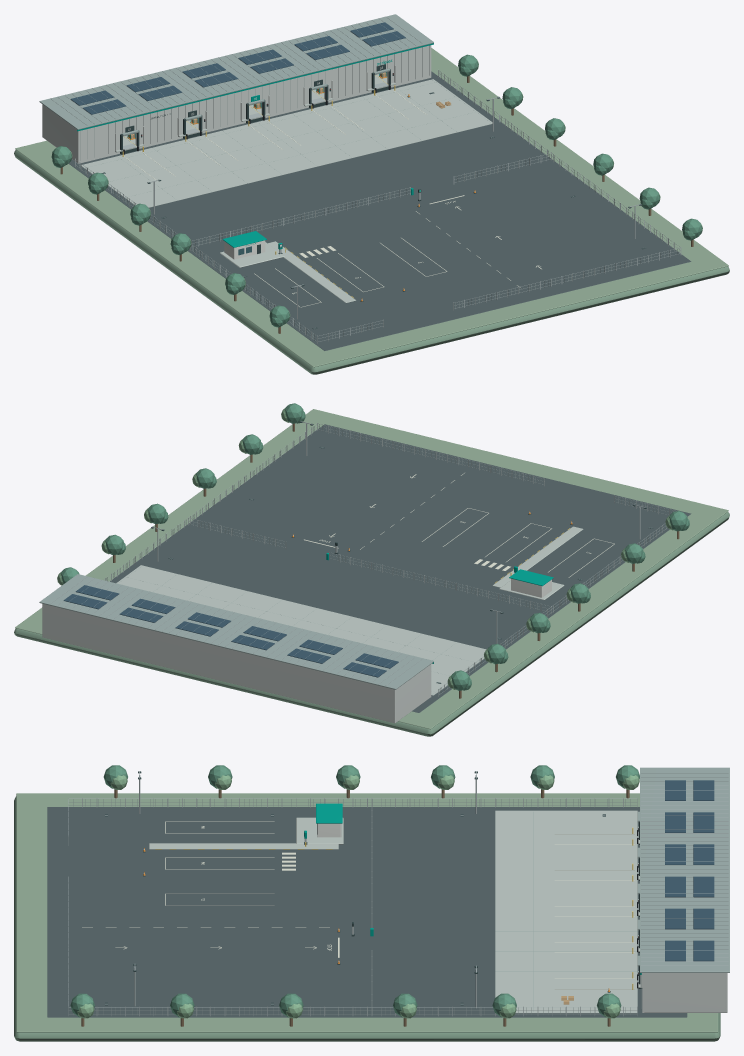
Rendered from yard.glb.
The picture shows the model from 3 angles, top to bottom: view 1: azimuth 30°, elevation 25°; view 2: azimuth 150°, elevation 25°; view 3: azimuth 270°, elevation 25°; orthographic projection. The views are drawn at different scales.
Parts seen in each view (by area): view 1: Asphalt, North apron, Meadow, Apron joint, Warehouse back, Diorama base, Roof seam, Icosphere, Solar module, Teal parapet, Dock jamb, Carton strap; view 2: Asphalt, Meadow, Warehouse back, Apron joint, North apron, Roof seam, Diorama base, Solar module, Icosphere, Icosphere.002, Carton strap; view 3: Asphalt, North apron, Meadow, Apron joint, Roof seam, Diorama base, Solar module, Icosphere, Warehouse back, Icosphere.002, Carton strap, Teal parapet.
Part boxes in pixels (bbox=[...]): Asphalt: bbox=[68, 71, 691, 350]; North apron: bbox=[80, 74, 492, 303]; Meadow: bbox=[15, 48, 728, 367]; Apron joint: bbox=[39, 14, 679, 340]; Warehouse back: bbox=[42, 45, 431, 163]; Diorama base: bbox=[14, 150, 729, 374]; Roof seam: bbox=[50, 17, 681, 343]; Icosphere: bbox=[51, 54, 702, 327]; Solar module: bbox=[70, 22, 405, 114]; Teal parapet: bbox=[77, 43, 433, 249]; Dock jamb: bbox=[101, 64, 645, 329]; Carton strap: bbox=[123, 74, 541, 307]; Asphalt: bbox=[110, 424, 691, 712]; Meadow: bbox=[15, 409, 728, 729]; Warehouse back: bbox=[42, 603, 431, 723]; Apron joint: bbox=[39, 424, 673, 694]; North apron: bbox=[116, 526, 583, 695]; Roof seam: bbox=[50, 421, 676, 696]; Diorama base: bbox=[14, 512, 729, 736]; Solar module: bbox=[63, 585, 398, 677]; Icosphere: bbox=[60, 403, 689, 690]; Icosphere.002: bbox=[57, 408, 673, 689]; Carton strap: bbox=[304, 473, 614, 577]; Asphalt: bbox=[47, 807, 687, 1017]; North apron: bbox=[149, 810, 642, 1013]; Meadow: bbox=[16, 793, 717, 1032]; Apron joint: bbox=[73, 767, 729, 1014]; Roof seam: bbox=[68, 771, 728, 1016]; Diorama base: bbox=[14, 796, 720, 1041]; Solar module: bbox=[665, 780, 714, 961]; Icosphere: bbox=[70, 765, 639, 1017]; Warehouse back: bbox=[640, 973, 727, 1012]; Icosphere.002: bbox=[77, 775, 639, 1018]; Carton strap: bbox=[82, 821, 634, 989]; Teal parapet: bbox=[304, 803, 641, 974].
Size of the model in its own units: 120 by 12.89 by 151.
